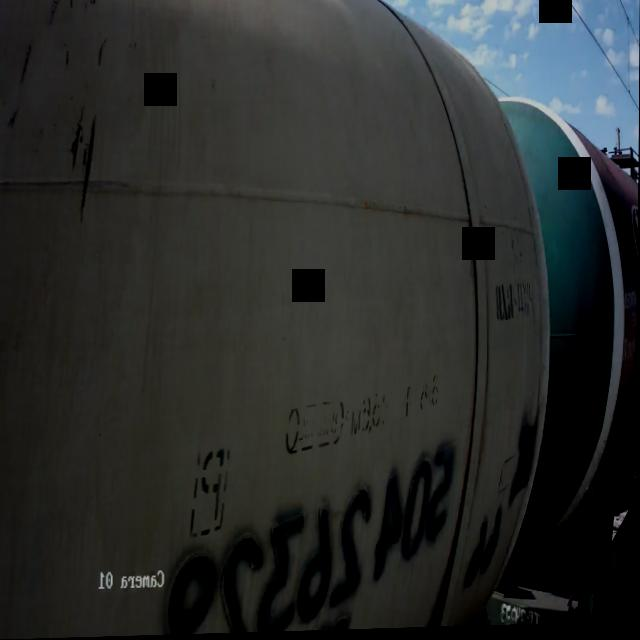tank: (0, 0, 562, 640), (489, 78, 639, 629)
